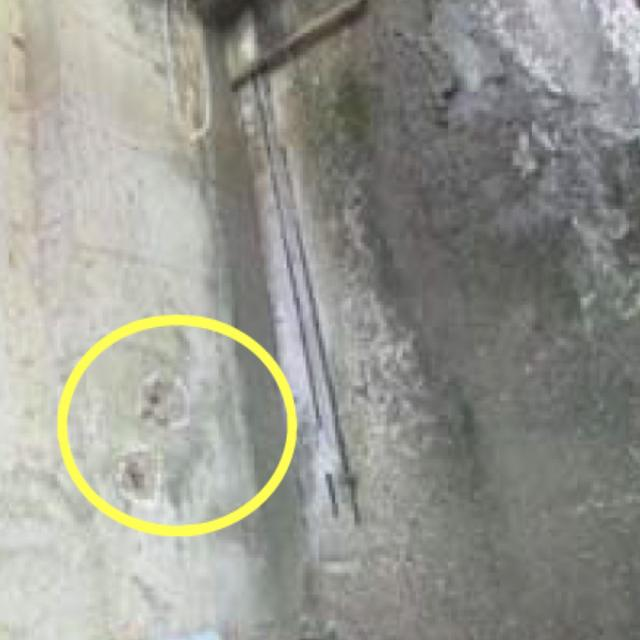spalling: (108, 380, 212, 501)
